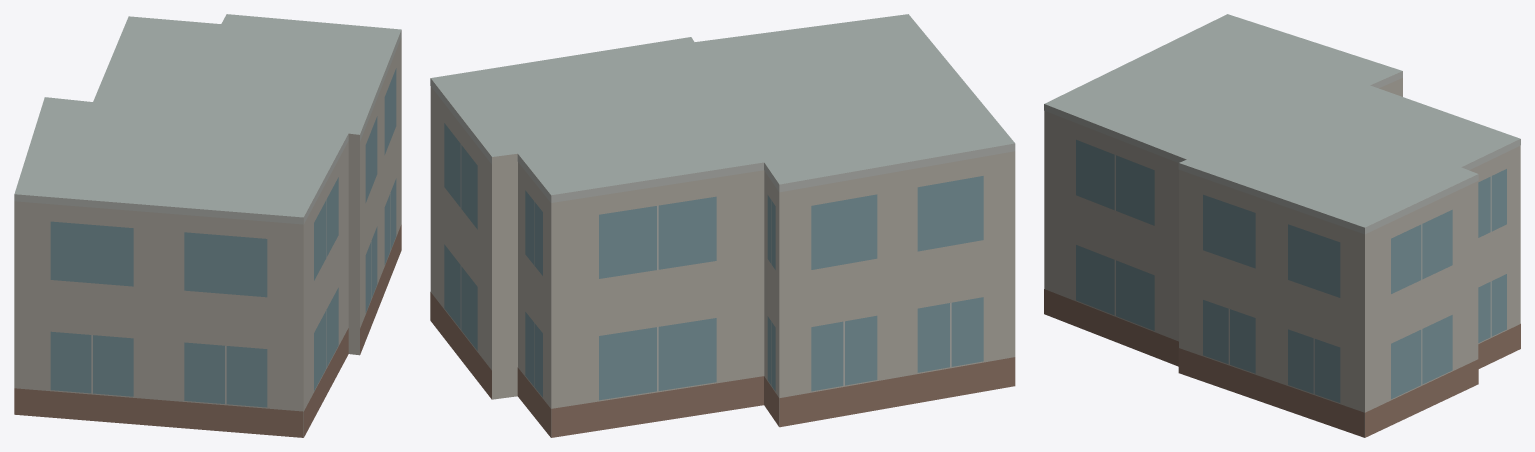
File: survey-upis-32626553.glb
The picture shows the model from 3 angles, left to right: view 1: azimuth 30°, elevation 25°; view 2: azimuth 150°, elevation 25°; view 3: azimuth 270°, elevation 25°; orthographic projection. The views are drawn at different scales.
Parts seen in each view (by area): view 1: survey-upis-32626553.tmp; view 2: survey-upis-32626553.tmp; view 3: survey-upis-32626553.tmp.
Part boxes in pixels (x1,y1,x2,y2): survey-upis-32626553.tmp: (14, 14, 401, 437); survey-upis-32626553.tmp: (430, 14, 1015, 437); survey-upis-32626553.tmp: (1044, 14, 1520, 437).
Size of the model in its own units: 16.58 by 7.6 by 15.62.
